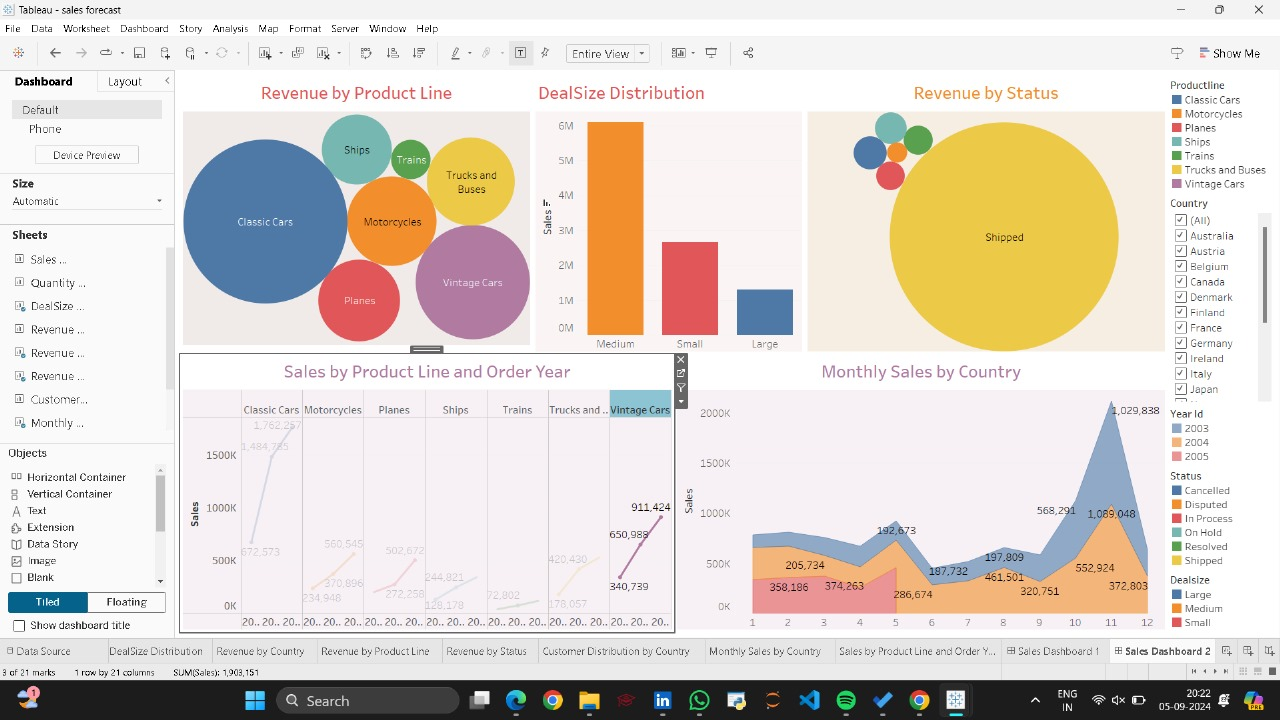

What the dashboard file says about the page in this screenshot:
{"tool":"tableau","page":{"name":"Sales Dashboard 2","canvas":[1000,1000],"units":"permille","ordinal":1},"visuals":[{"type":"worksheet","title":"Revenue by Product Line","mark":"Circle","box":[4.8,9.4,319.1,490.6]},{"type":"worksheet","title":"DealSize Distribution","mark":"Automatic","rows":["SALES"],"cols":["DEALSIZE"],"box":[324,9.4,246.1,490.6]},{"type":"worksheet","title":"Revenue by Status","mark":"Circle","box":[570.1,9.4,328.5,490.6]},{"type":"legend","title":"Sales by Product Line and Order Year","param":"[federated.1t8adoc08vdkdy1071w9w01g8w30].[none:PRODUCTLINE:nk]","box":[898.6,9.4,96.6,208]},{"type":"filter","title":"Monthly Sales by Country","param":"[federated.1t8adoc08vdkdy1071w9w01g8w30].[none:COUNTRY:nk]","box":[898.6,217.4,96.6,371.3]},{"type":"worksheet","title":"Sales by Product Line and Order Year","mark":"Line","rows":["SALES"],"cols":["PRODUCTLINE","YEAR_ID"],"box":[4.8,500,446.9,490.6]},{"type":"worksheet","title":"Monthly Sales by Country","mark":"Area","rows":["SALES"],"cols":["MONTH_ID"],"box":[451.7,500,446.9,490.6]},{"type":"legend","title":"Monthly Sales by Country","param":"[federated.1t8adoc08vdkdy1071w9w01g8w30].[none:YEAR_ID:ok]","box":[898.6,588.7,96.6,109.3]},{"type":"legend","title":"Revenue by Status","param":"[federated.1t8adoc08vdkdy1071w9w01g8w30].[none:STATUS:nk]","box":[898.6,698,96.6,183.3]},{"type":"legend","title":"DealSize Distribution","param":"[federated.1t8adoc08vdkdy1071w9w01g8w30].[none:DEALSIZE:nk]","box":[898.6,881.3,96.6,109.3]}]}

Visuals, with their boxes on the dashboard's canvas, which has no fixed pixel size, in thousandths of its width and height (x1, y1, x2, y2). These are canvas units, not pixel positions in the 1280x720 screenshot, which may show the page scaled, cropped or inside an application window:
"Revenue by Product Line" worksheet (Circle marks): [5,9,324,500]
"DealSize Distribution" worksheet: [324,9,570,500]
"Revenue by Status" worksheet (Circle marks): [570,9,899,500]
"Sales by Product Line and Order Year" legend: [899,9,995,217]
"Monthly Sales by Country" filter: [899,217,995,589]
"Sales by Product Line and Order Year" worksheet (Line marks): [5,500,452,991]
"Monthly Sales by Country" worksheet (Area marks): [452,500,899,991]
"Monthly Sales by Country" legend: [899,589,995,698]
"Revenue by Status" legend: [899,698,995,881]
"DealSize Distribution" legend: [899,881,995,991]
